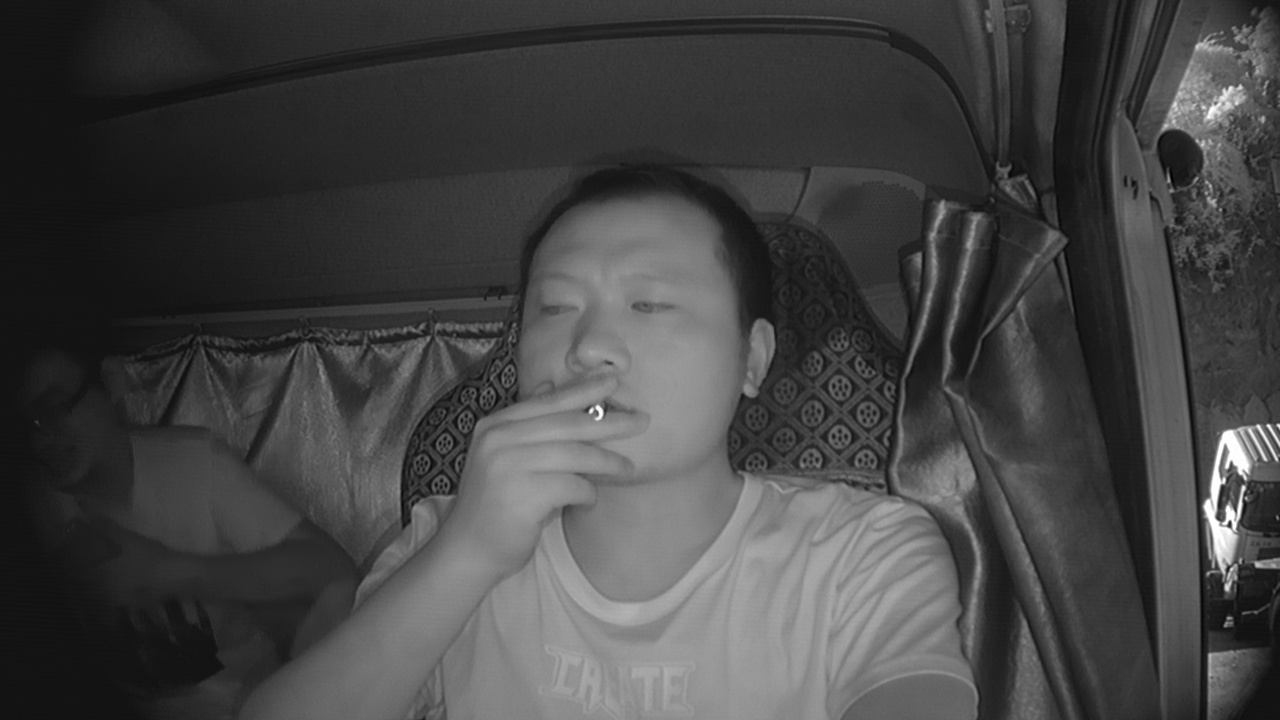hand: (487, 371, 633, 529)
